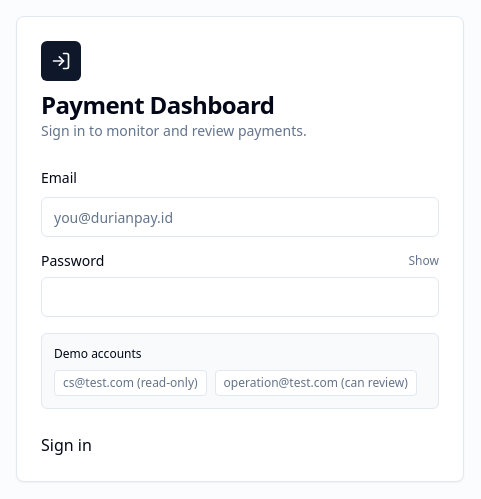
Test: LoginPage › demo credentials button fills inputs
Click the button "cs@test.com (read-only)".
click(130, 383)  # box [54, 370, 207, 396]
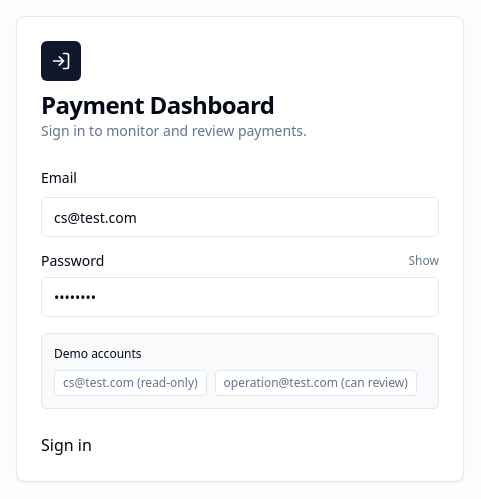
Expected: the field labelled "Email" holds "cs@test.com", [41, 197, 439, 237]
Expected: the password field labelled "Password" holds "password", [41, 277, 439, 317]
